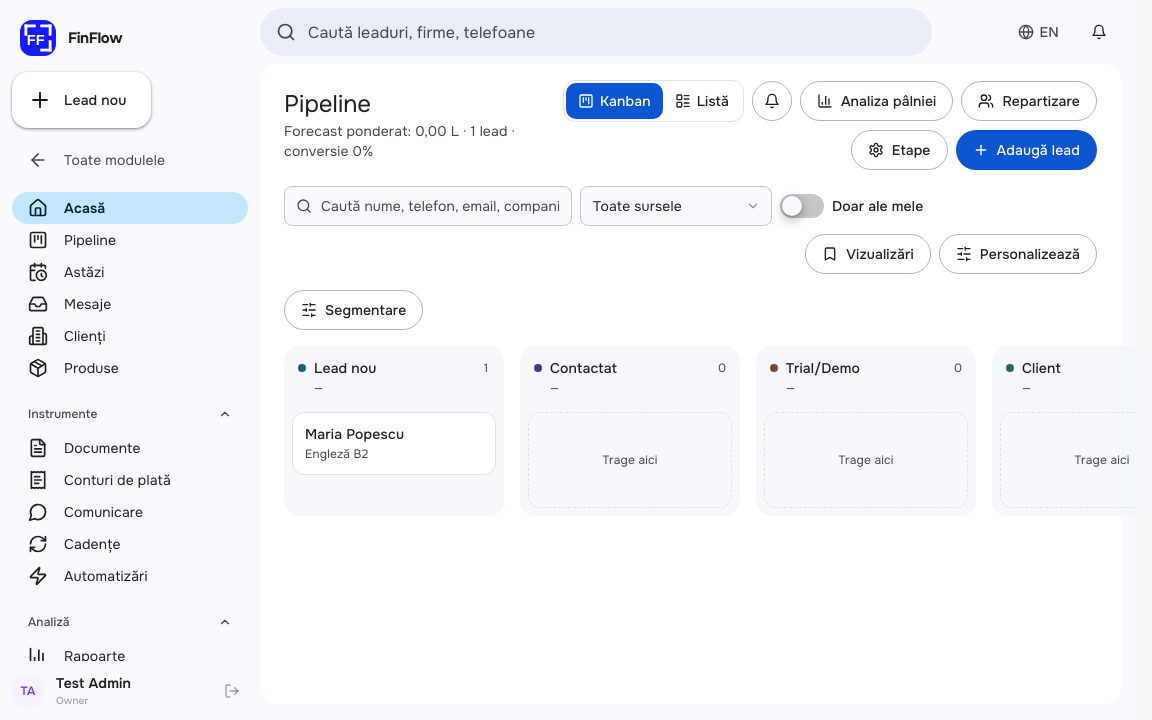
CRM (Faza 1) — LeadDetailSheet › fișa arată istoricul interacțiunilor, cel mai recent primul
Click the button with aria-label "Deschide lead Maria Popescu" at (394,444), box [293,413,495,474]
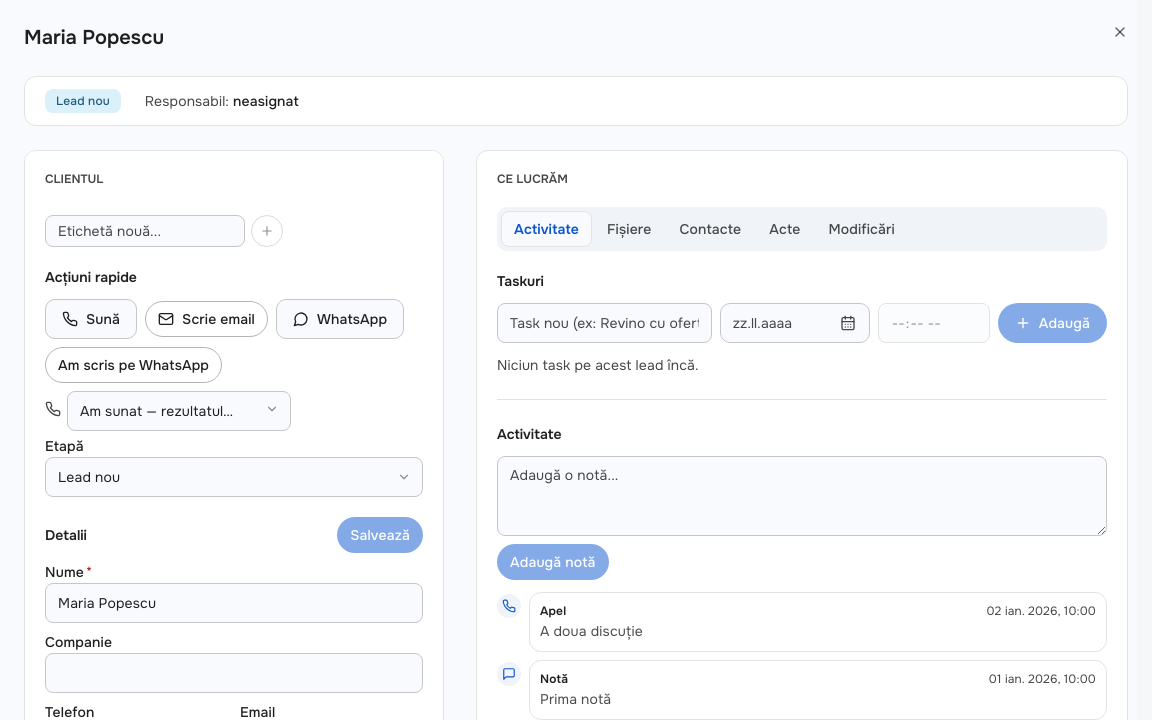
Expected: the text "A doua discuție" is shown, [540,622,643,640]
Expected: the list item "Apel 02 ian. 2026, 10:00 A doua discuție" is shown, [497,592,1107,652]
Expected: the list item "Notă 01 ian. 2026, 10:00 Prima notă" is shown, [497,660,1107,719]
